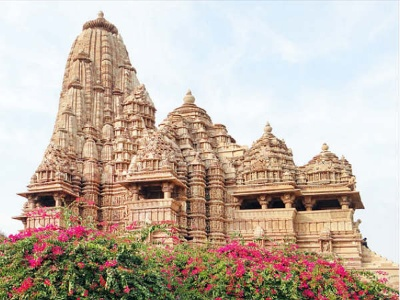amalaka: (67, 12, 128, 38)
gopuram: (52, 27, 168, 176)
mandapa: (220, 175, 311, 228), (294, 177, 375, 229), (117, 170, 189, 218), (13, 175, 84, 215)
